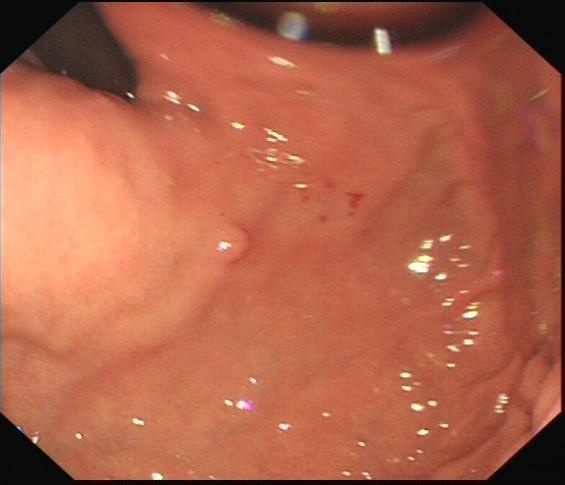Polyp: (202, 209, 267, 273)
